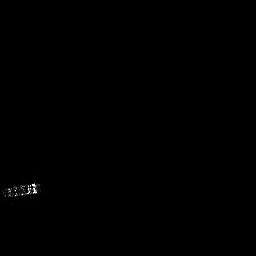ship: (1, 181, 42, 199)
